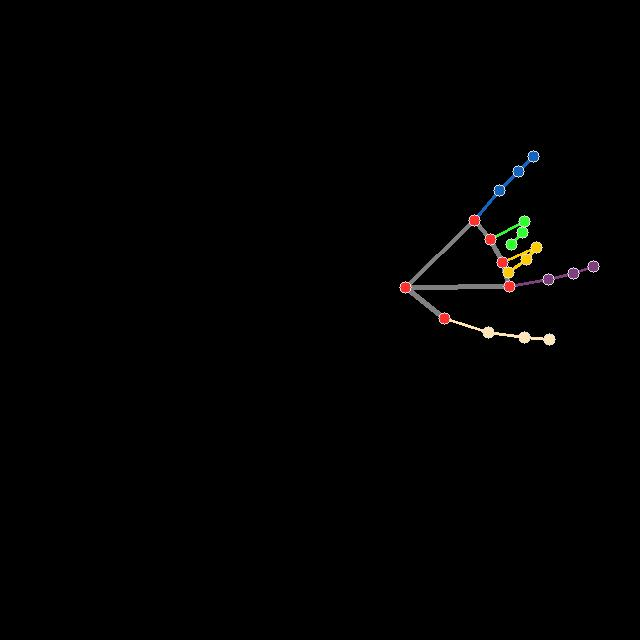spiderman: (398, 151, 599, 348)
